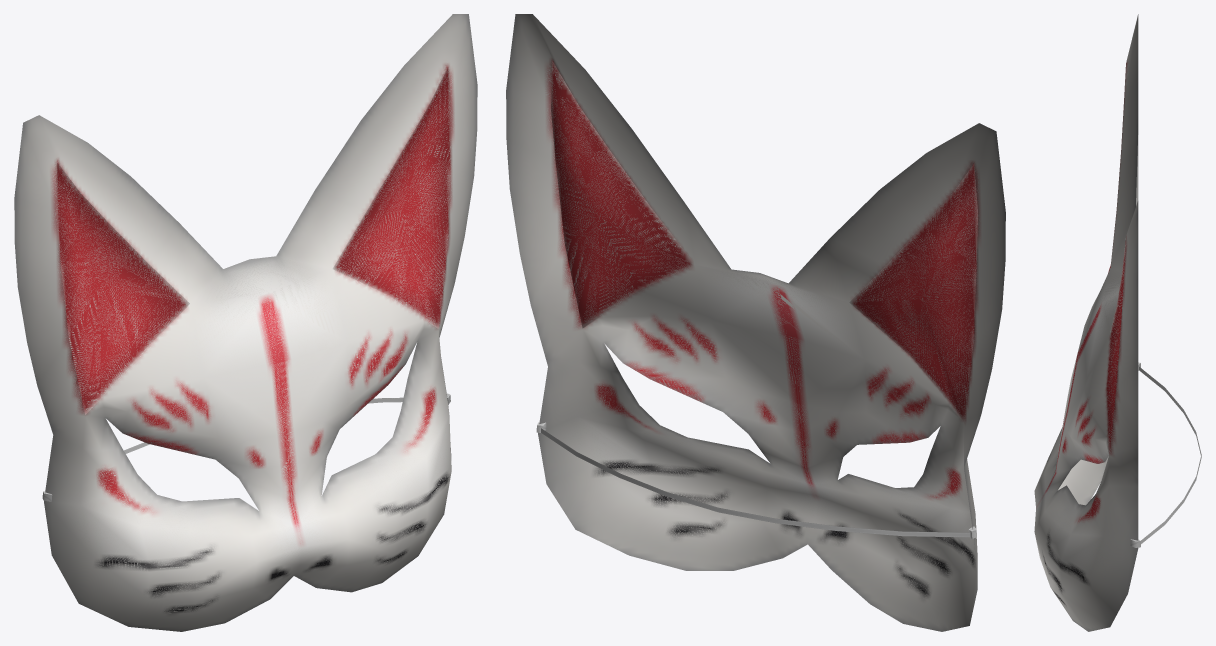
File: jsf_Mask_31.fbx
3 renders of one model, left to right at view 1: azimuth 30°, elevation 25°; view 2: azimuth 150°, elevation 25°; view 3: azimuth 270°, elevation 25°, orthographic. The views are drawn at different scales.
Visible parts, largest first — view 1: Mask_31; view 2: Mask_31, ElasticBand_31; view 3: Mask_31, ElasticBand_31.
Boxes of the visible parts, left/top/right/bottom form: Mask_31: left=14, top=14, right=477, bottom=631; Mask_31: left=506, top=14, right=1005, bottom=631; ElasticBand_31: left=541, top=428, right=969, bottom=537; Mask_31: left=1034, top=14, right=1140, bottom=631; ElasticBand_31: left=1139, top=366, right=1201, bottom=543.
Size of the model in its own units: 21.63 by 23.05 by 7.46.
